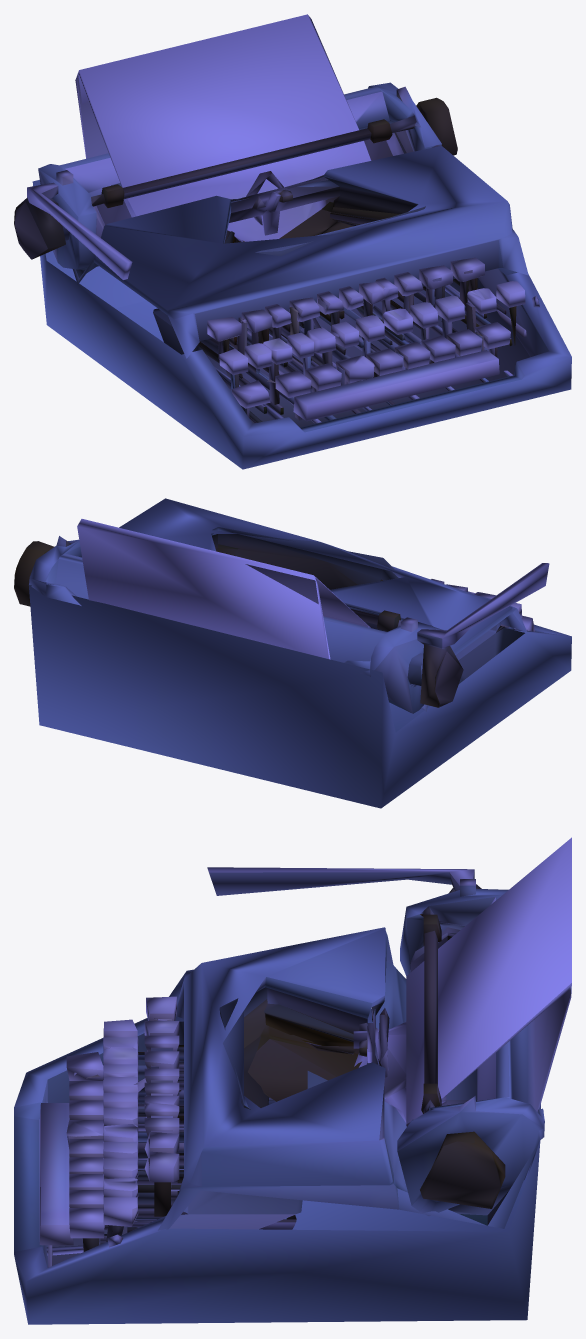
Rendered from model.progressive.glb.
3 views of the same model, one above another, from view 1: azimuth 30°, elevation 25°; view 2: azimuth 150°, elevation 25°; view 3: azimuth 270°, elevation 25° (orthographic). The views are drawn at different scales.
Parts seen in each view (by area): view 1: material; view 2: material; view 3: material.
Part boxes in pixels (x1,y1,x2,y2): material: (14, 14, 571, 469); material: (14, 498, 571, 808); material: (14, 837, 571, 1324).
Size of the model in its own units: 1.9 by 1.03 by 1.69.
Materials: 1 (1 with a texture image).
